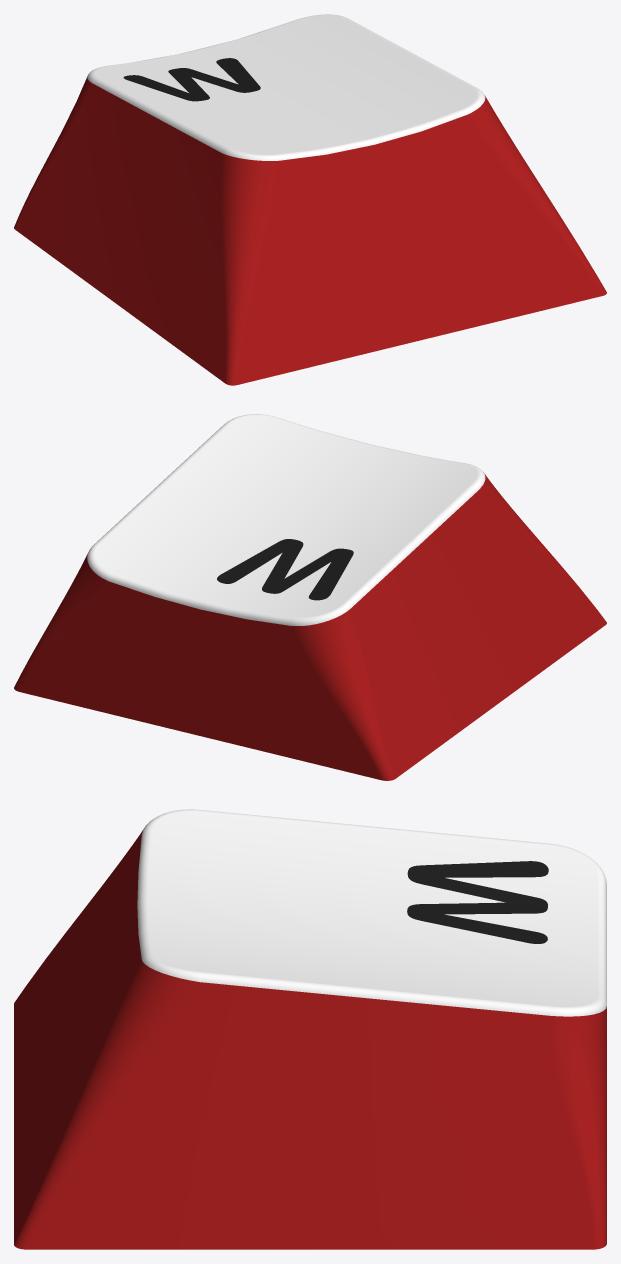
The picture shows the model from 3 angles, top to bottom: view 1: azimuth 30°, elevation 25°; view 2: azimuth 150°, elevation 25°; view 3: azimuth 270°, elevation 25°; orthographic projection. The views are drawn at different scales.
Visible parts, largest first — view 1: Body1; view 2: Body1; view 3: Body1.
Boxes of the visible parts, x1,y1,x2,y2 form: Body1: (14,14,606,385); Body1: (14,414,606,780); Body1: (14,809,606,1249).
Size of the model in its own units: 18 by 7.85 by 18.
